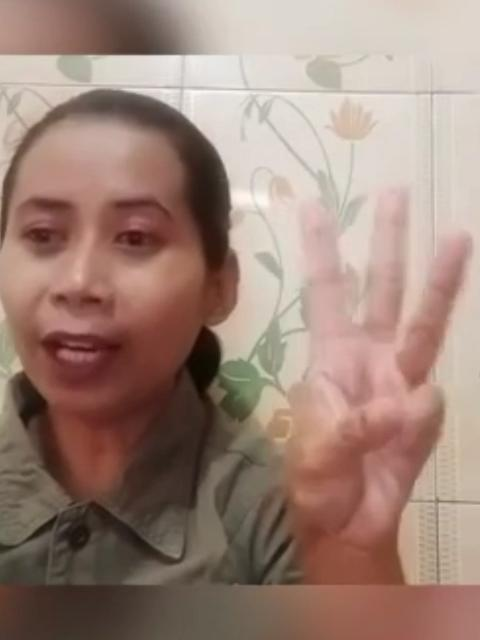W: (283, 182, 473, 542)
